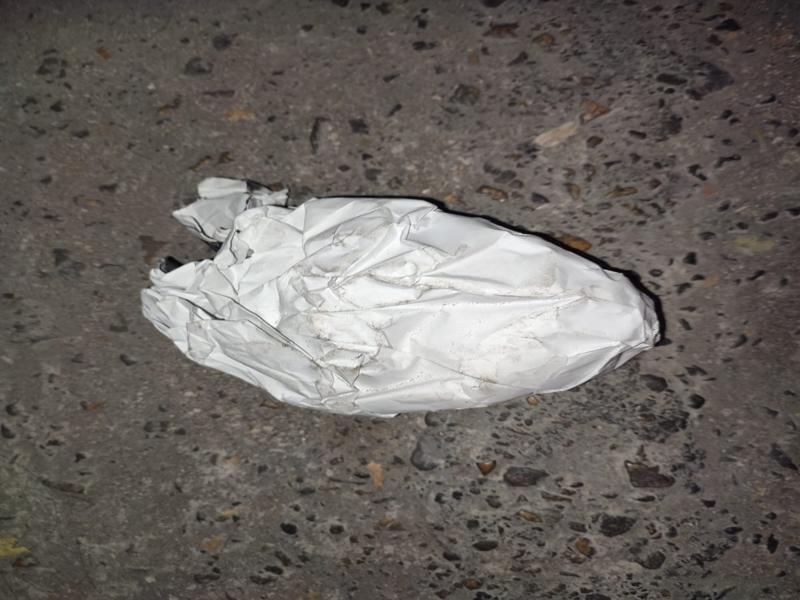papel: (139, 179, 665, 419)
